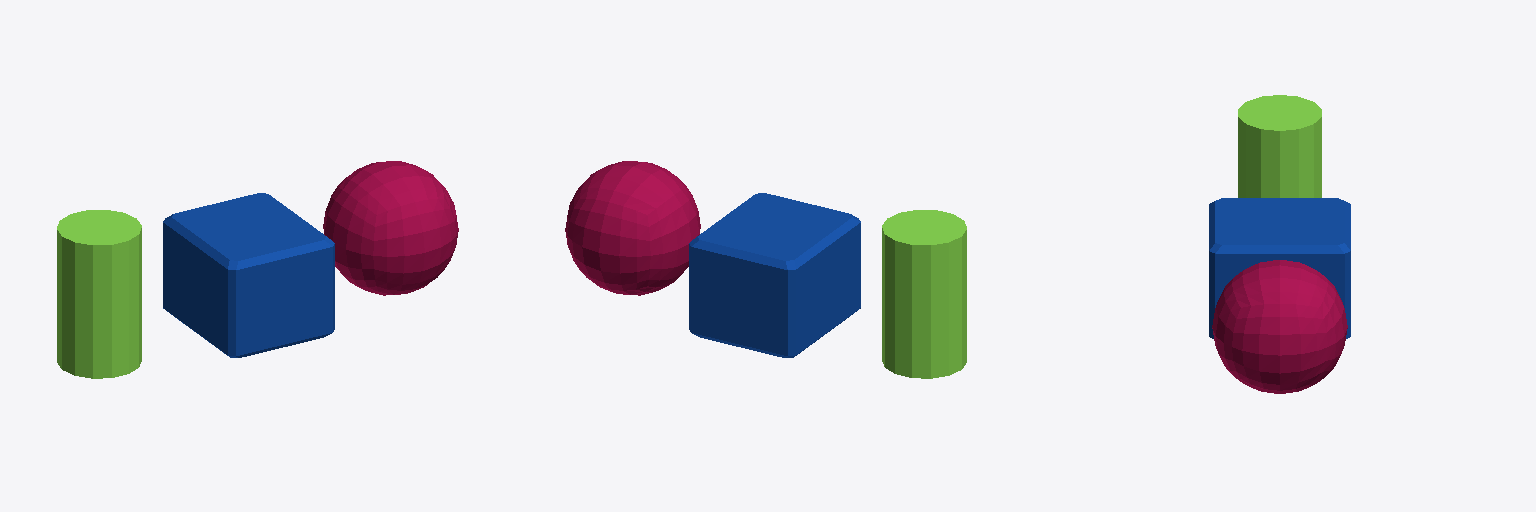
The model's file is TestObjects_Triangles.obj.
3 views of the same model, side by side, from view 1: azimuth 30°, elevation 25°; view 2: azimuth 150°, elevation 25°; view 3: azimuth 270°, elevation 25° (orthographic).
Parts seen in each view (by area): view 1: Box001, Box002, Cylinder001; view 2: Box001, Box002, Cylinder001; view 3: Box002, Box001, Cylinder001.
Boxes of the visible parts, x1,y1,x2,y2 form: Box001: [163, 193, 334, 357]; Box002: [323, 161, 458, 295]; Cylinder001: [57, 210, 141, 378]; Box001: [689, 193, 860, 357]; Box002: [565, 161, 700, 295]; Cylinder001: [882, 210, 966, 378]; Box002: [1212, 260, 1347, 393]; Box001: [1209, 198, 1350, 338]; Cylinder001: [1238, 95, 1321, 197].
Bounding box in the file's own units: 7.85 × 2.58 × 2.49.